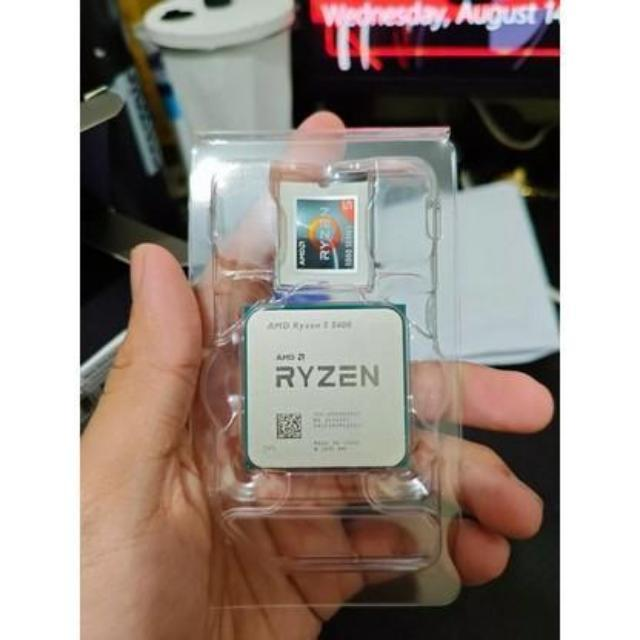CPU: (242, 314, 413, 469)
